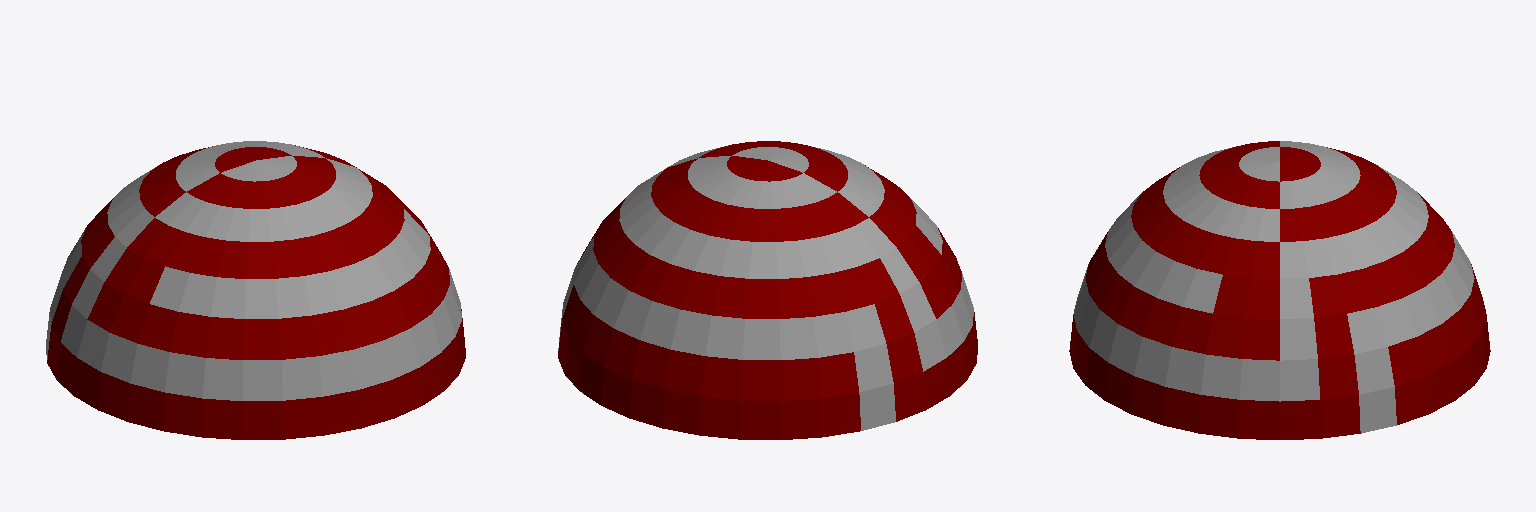
Rendered from tapper.obj.
The picture shows the model from 3 angles: view 1: azimuth 30°, elevation 25°; view 2: azimuth 150°, elevation 25°; view 3: azimuth 270°, elevation 25°; orthographic projection.
Visible parts, largest first — view 1: Sphere; view 2: Sphere; view 3: Sphere.
Part boxes in pixels (left/top/right/bottom): Sphere: left=46, top=141, right=465, bottom=439; Sphere: left=558, top=141, right=977, bottom=439; Sphere: left=1069, top=141, right=1490, bottom=439.
Bounding box in the file's own units: 0.3 × 0.15 × 0.3.